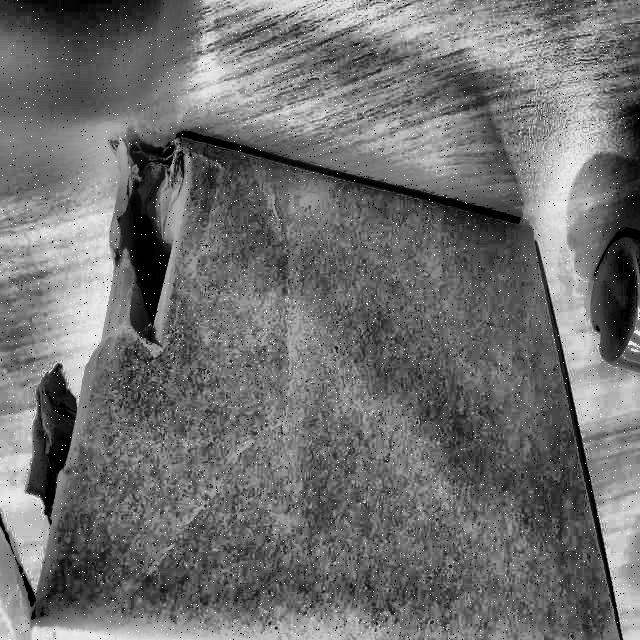box: (10, 140, 640, 640)
hole: (99, 161, 189, 341)
